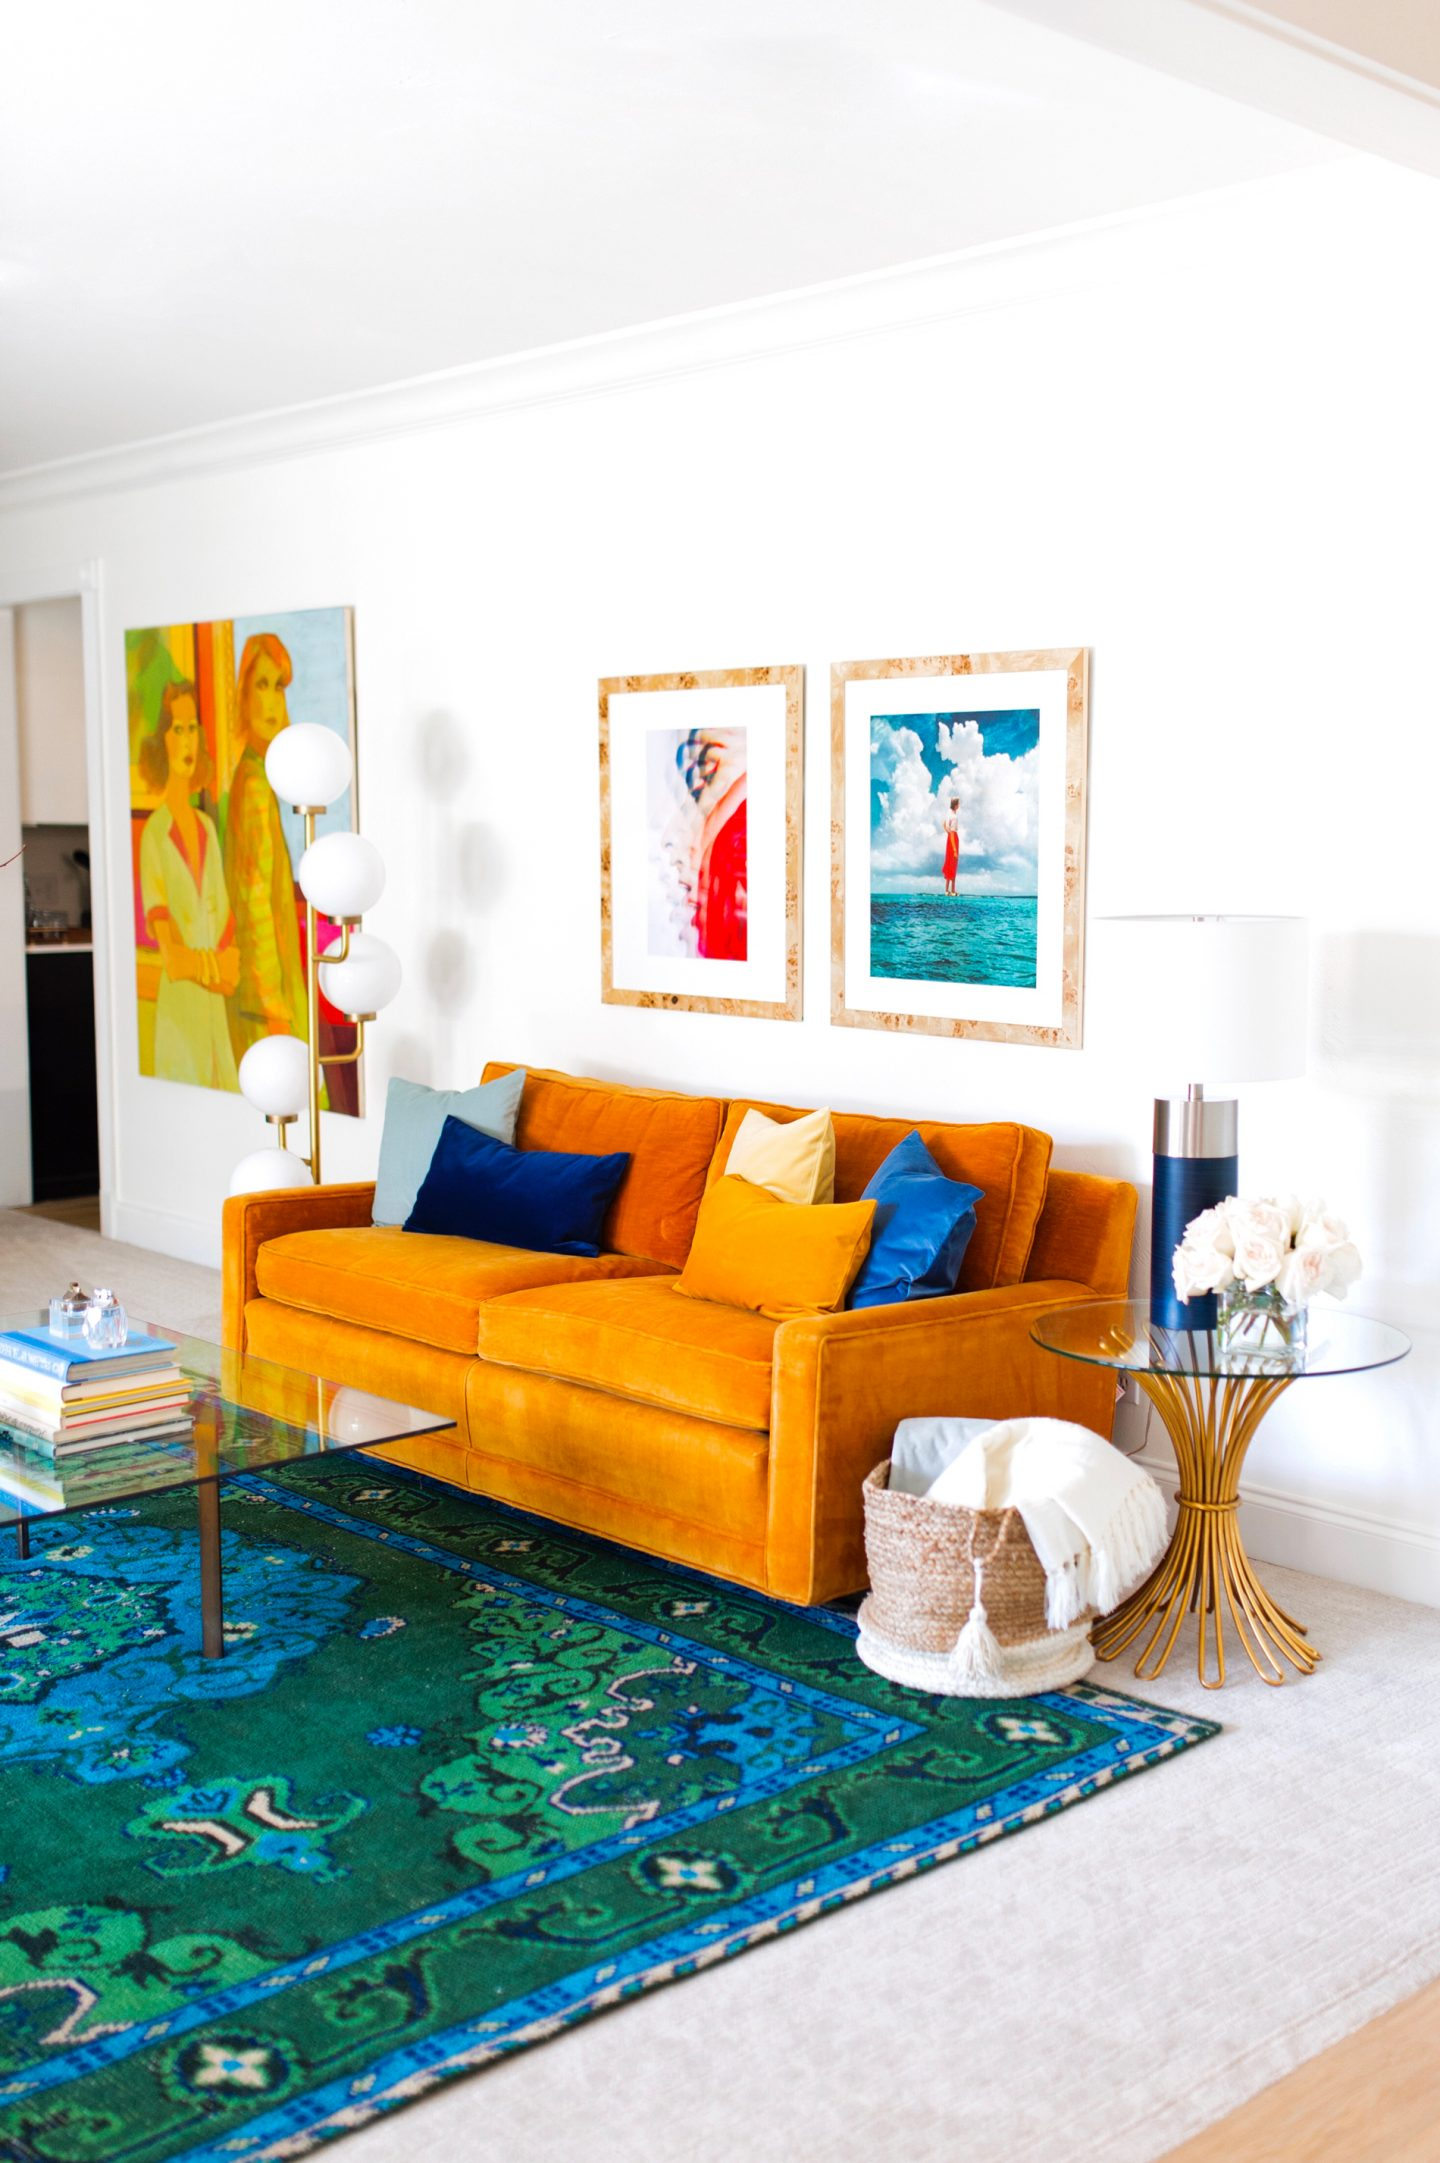biru: (444, 1122, 625, 1249), (860, 1143, 971, 1295)
orange: (225, 1086, 1131, 1528), (694, 1175, 845, 1319)
putih: (1180, 1204, 1363, 1311)
